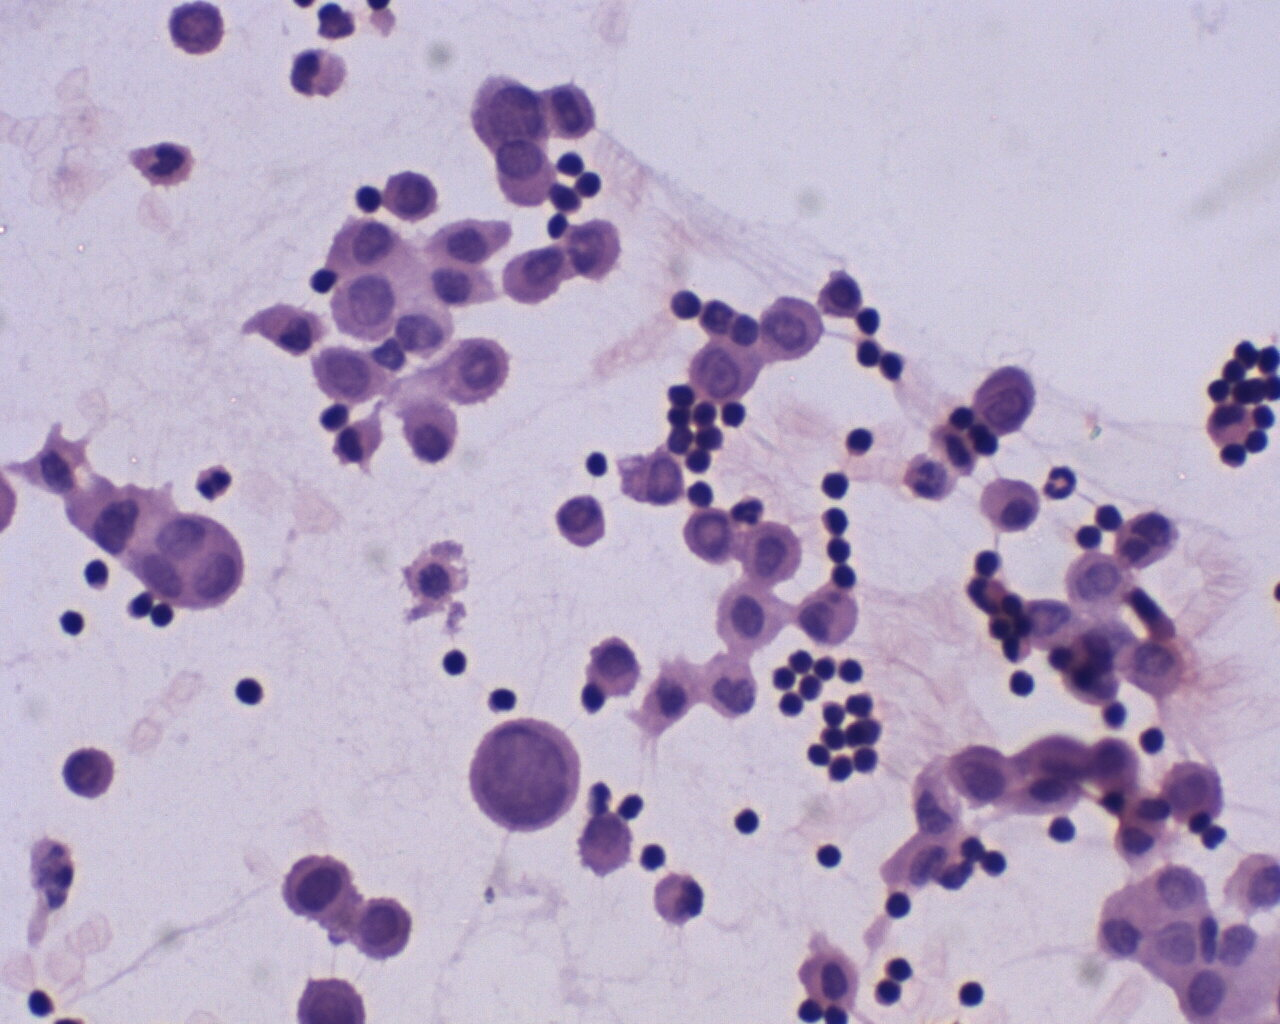ab: (465, 717, 581, 831), (466, 72, 548, 145), (307, 342, 391, 406), (283, 852, 355, 922), (688, 336, 760, 403), (380, 168, 439, 225)
lymph: (818, 466, 856, 504), (635, 836, 670, 877), (1002, 669, 1040, 703), (850, 305, 889, 335), (439, 645, 472, 680), (54, 607, 91, 639), (809, 839, 844, 871), (956, 978, 990, 1010), (1048, 813, 1081, 845), (231, 676, 264, 707), (732, 808, 765, 837), (582, 450, 606, 475)
meso: (714, 578, 785, 656), (794, 944, 859, 1013), (979, 478, 1043, 533)
neutro: (1044, 462, 1078, 501)
